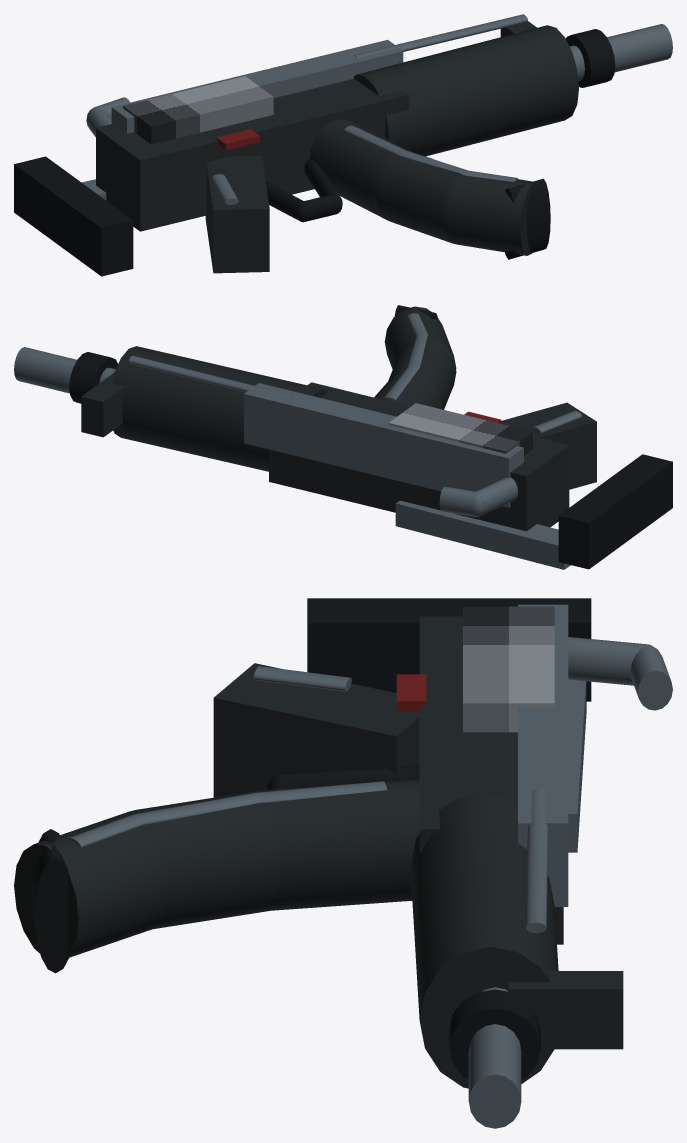
The model's file is CMU3DWorldRMCWeaponSMGMP5AltCloud.glb.
The picture shows the model from 3 angles, top to bottom: view 1: azimuth 30°, elevation 25°; view 2: azimuth 150°, elevation 25°; view 3: azimuth 270°, elevation 25°; orthographic projection. The views are drawn at different scales.
Parts seen in each view (by area): view 1: receiver upper core, rounded dark foregrip, collapsed stock heel, angled pistol grip, exact upper receiver markings, curved stick magazine exterior member 3, receiver raised spine, curved stick magazine exterior member 2, curved stick magazine exterior member 1, short exterior barrel, barrel shoulder, magazine base flange (+10 smaller); view 2: receiver raised spine, rounded dark foregrip, receiver upper core, collapsed stock heel, folded stock side member, exact upper receiver markings, angled pistol grip, short exterior barrel, front sight post, curved stick magazine exterior member 2, curved stick magazine exterior member 3, barrel shoulder (+7 smaller); view 3: rounded dark foregrip, angled pistol grip, curved stick magazine exterior member 1, curved stick magazine exterior member 3, curved stick magazine exterior member 2, receiver upper core, collapsed stock heel, exact upper receiver markings, receiver raised spine, front sight post, short exterior barrel, barrel shoulder (+11 smaller).
Part boxes in pixels (x1,y1,x2,y2): receiver upper core: (96,78,409,231); rounded dark foregrip: (354,25,578,156); collapsed stock heel: (14,156,133,276); angled pistol grip: (205,155,269,273); exact upper receiver markings: (123,76,273,144); curved stick magazine exterior member 3: (449,173,533,255); receiver raised spine: (111,39,403,133); curved stick magazine exterior member 2: (377,149,459,243); curved stick magazine exterior member 1: (309,119,405,220); short exterior barrel: (569,24,672,81); barrel shoulder: (566,29,615,87); magazine base flange: (505,178,550,259); receiver raised spine: (244,383,523,507); rounded dark foregrip: (112,346,328,471); receiver upper core: (269,382,569,531); collapsed stock heel: (558,454,672,569); folded stock side member: (395,500,570,569); exact upper receiver markings: (388,403,532,455); angled pistol grip: (501,402,596,489); short exterior barrel: (14,347,115,393); front sight post: (81,373,125,437); curved stick magazine exterior member 2: (388,337,456,409); curved stick magazine exterior member 3: (384,306,456,369); barrel shoulder: (69,352,117,403); rounded dark foregrip: (410,794,558,1088); angled pistol grip: (213,663,419,797); curved stick magazine exterior member 1: (263,779,419,910); curved stick magazine exterior member 3: (14,811,168,957); curved stick magazine exterior member 2: (136,790,279,929); receiver upper core: (419,616,563,944); collapsed stock heel: (307,598,591,701); exact upper receiver markings: (463,606,554,732); receiver raised spine: (518,604,568,906); front sight post: (509,971,623,1049); short exterior barrel: (468,987,521,1128); barrel shoulder: (449,989,540,1079).
Bounding box in the file's own units: 0.7937 × 0.121 × 0.4498.
5 materials, 1 textured.
